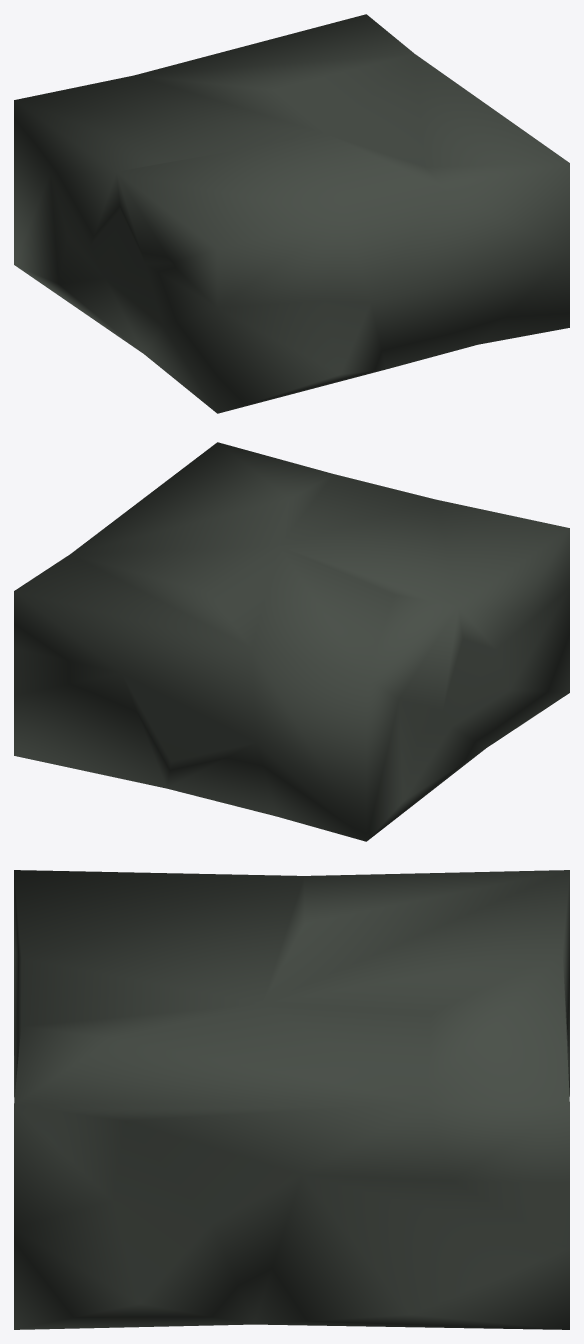
The model's file is underrock_2.glb.
3 views of the same model, one above another, from view 1: azimuth 30°, elevation 25°; view 2: azimuth 150°, elevation 25°; view 3: azimuth 270°, elevation 25° (orthographic). The views are drawn at different scales.
Visible parts, largest first — view 1: underrock_2; view 2: underrock_2; view 3: underrock_2.
Boxes of the visible parts, x1,y1,x2,y2 form: underrock_2: (14,14,569,413); underrock_2: (14,442,569,841); underrock_2: (14,870,569,1329).
Bounding box in the file's own units: 2.8 × 1.25 × 2.8.
1 material, 1 textured.
